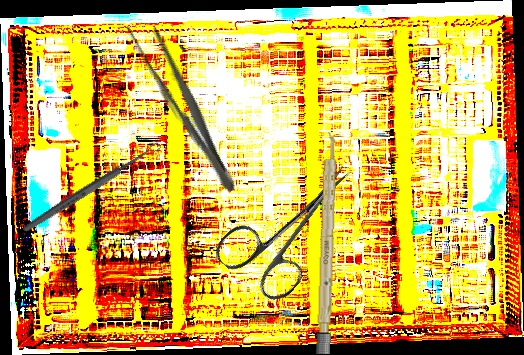Dressing Forceps: (121, 12, 248, 199)
Iris Scissors: (209, 138, 378, 311)
Scalpel Handle: (316, 131, 338, 355)
Surgical Spoon: (21, 140, 163, 235)
